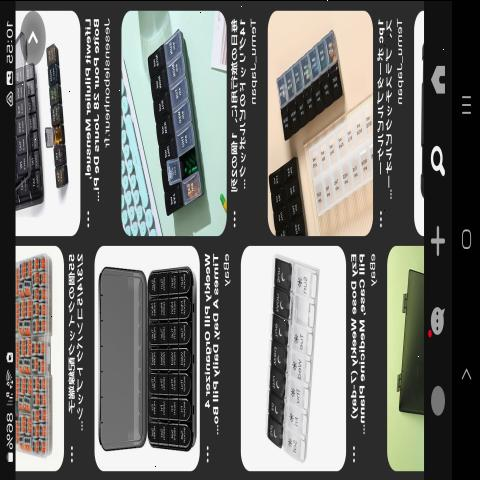PillBox: (137, 15, 215, 230), (266, 258, 326, 460), (269, 24, 349, 152)
